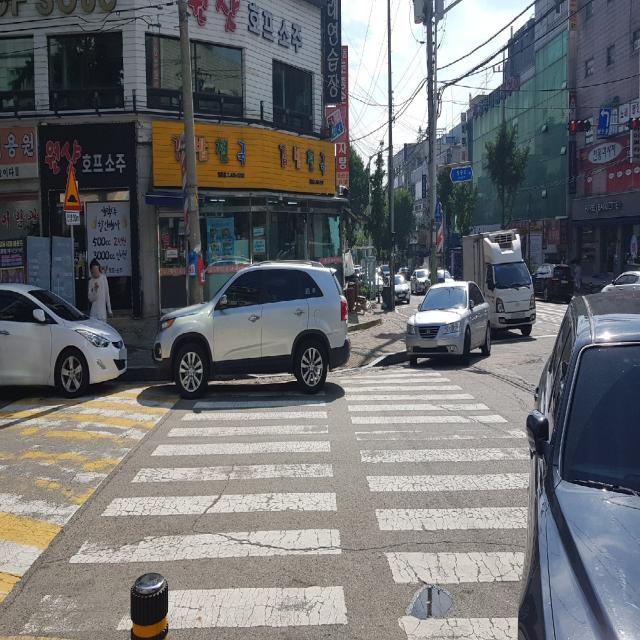횡단보도: (16, 363, 531, 640)
